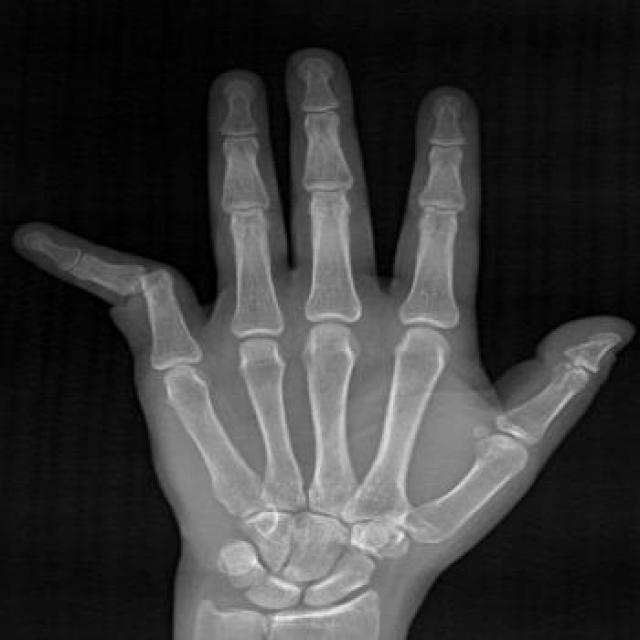fracture: (120, 248, 174, 304)
